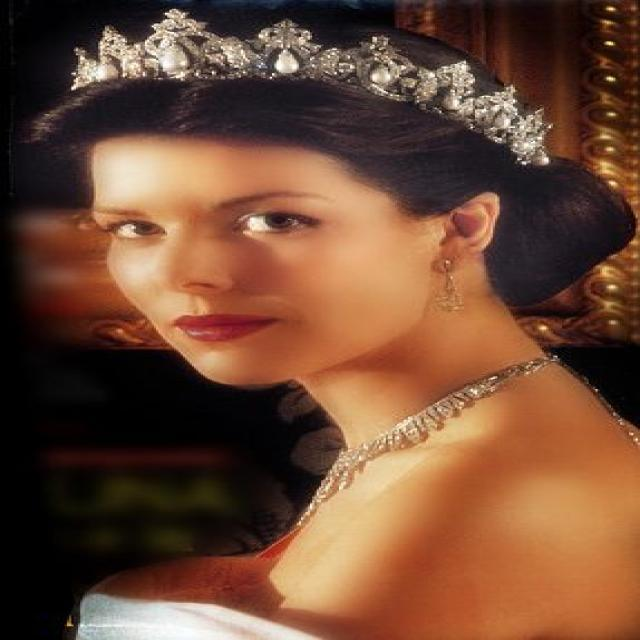Earring: (426, 232, 470, 326)
